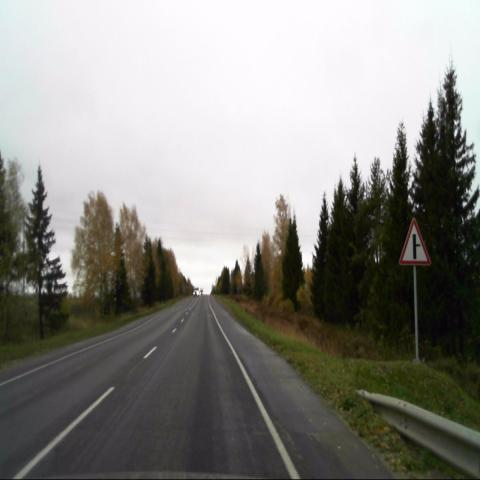2_3_2: (398, 215, 432, 266)
